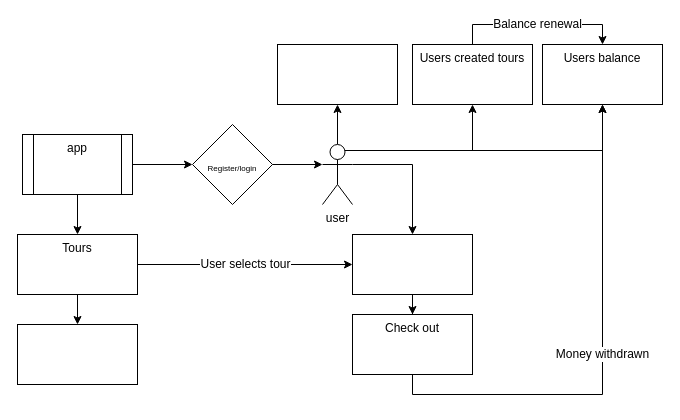
This 680x420 diagram has some shape labels left out. Each missing label, with the centre of its shape:
"Cart with tours" goes at pixel 412 264.
"Reviews" goes at pixel 77 354.
"Users bought tours" goes at pixel 337 74.
